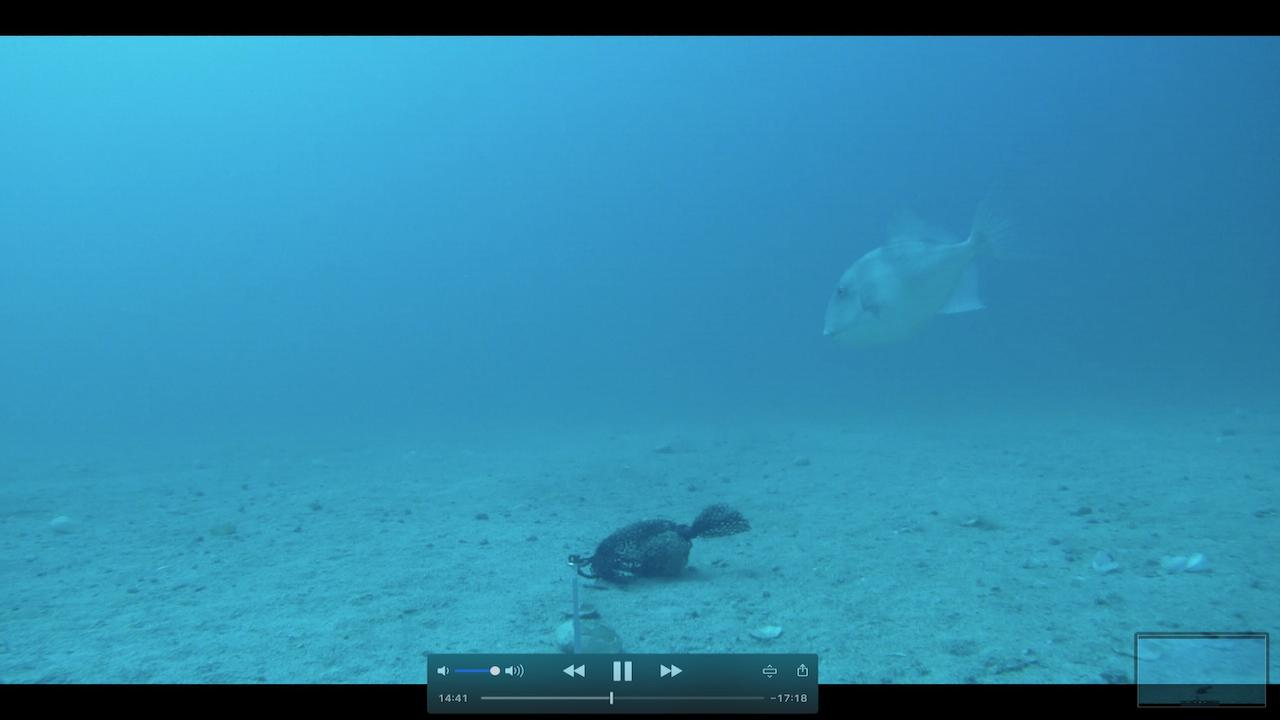balistes: (816, 173, 1035, 350)
